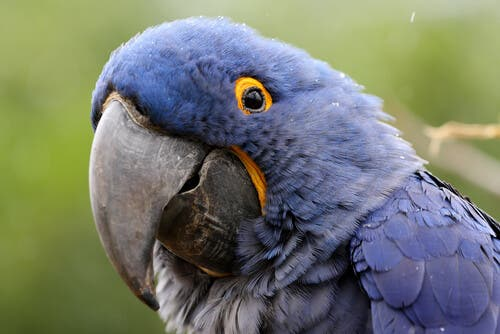guacamaya: (78, 14, 500, 332)
